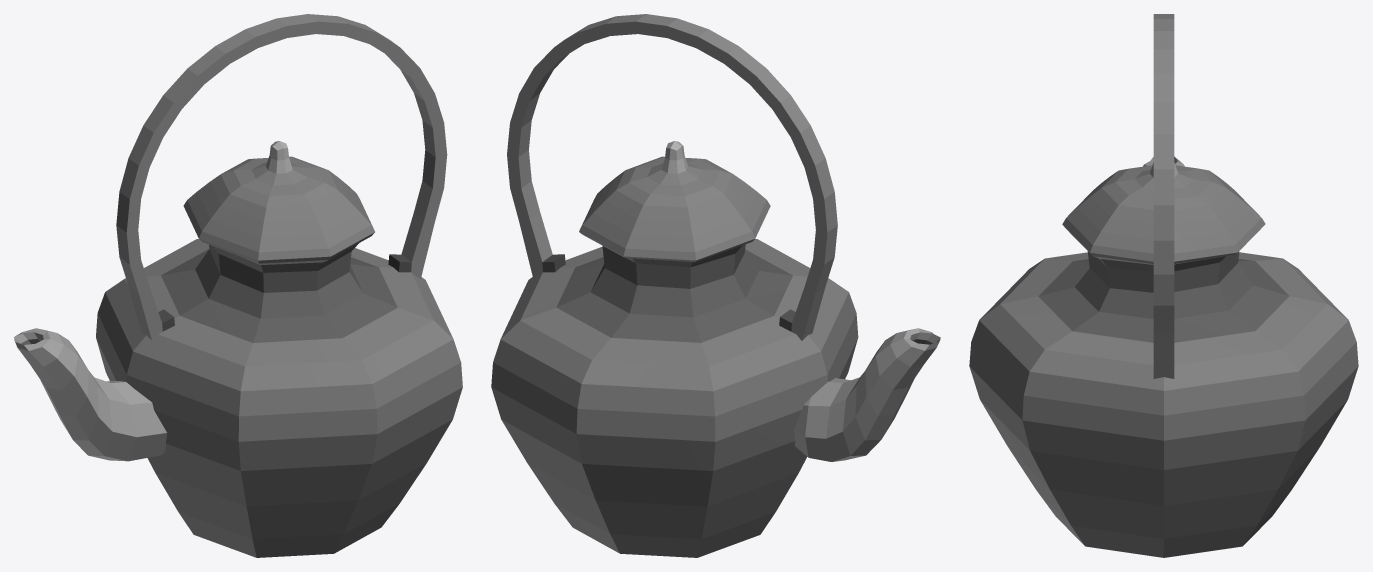
The model's file is TeapotModel.fbx.
The picture shows the model from 3 angles, left to right: view 1: azimuth 30°, elevation 25°; view 2: azimuth 150°, elevation 25°; view 3: azimuth 270°, elevation 25°; orthographic projection.
Parts seen in each view (by area): view 1: TeapotModel; view 2: TeapotModel; view 3: TeapotModel.
Part boxes in pixels (<box>): TeapotModel: <box>14,14,462,557</box>; TeapotModel: <box>491,14,940,557</box>; TeapotModel: <box>969,14,1358,557</box>.
Bounding box in the file's own units: 52.31 × 59.25 × 41.69.
